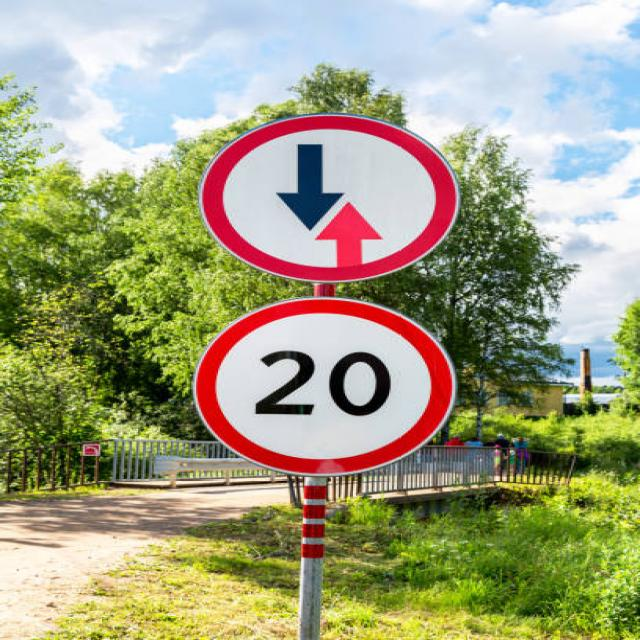speed_limit_20: (185, 292, 458, 478)
